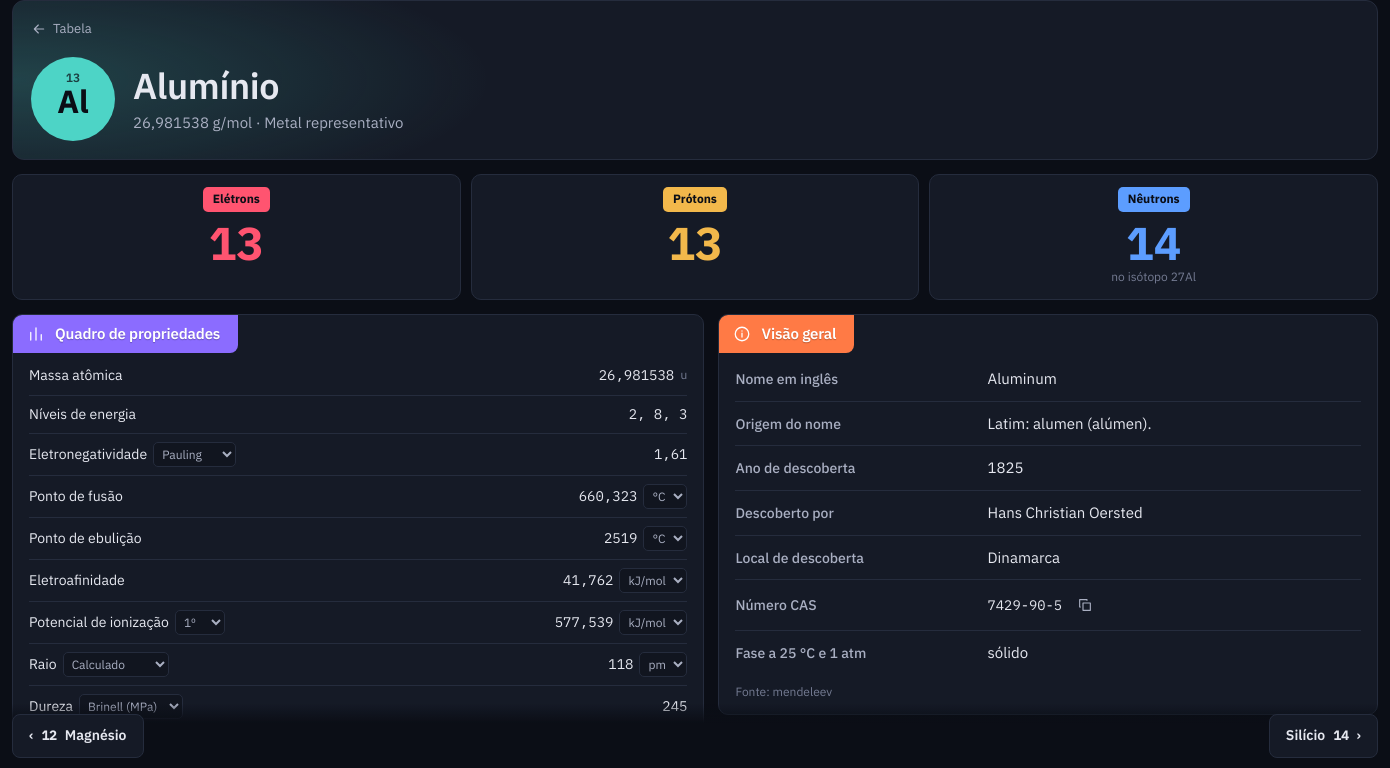
páginas de elementos › seletor de variante troca o valor (raio)
Select "van der Waals" in the dropdown named "Raio: variante" at [116, 665], box [63,652,169,677]
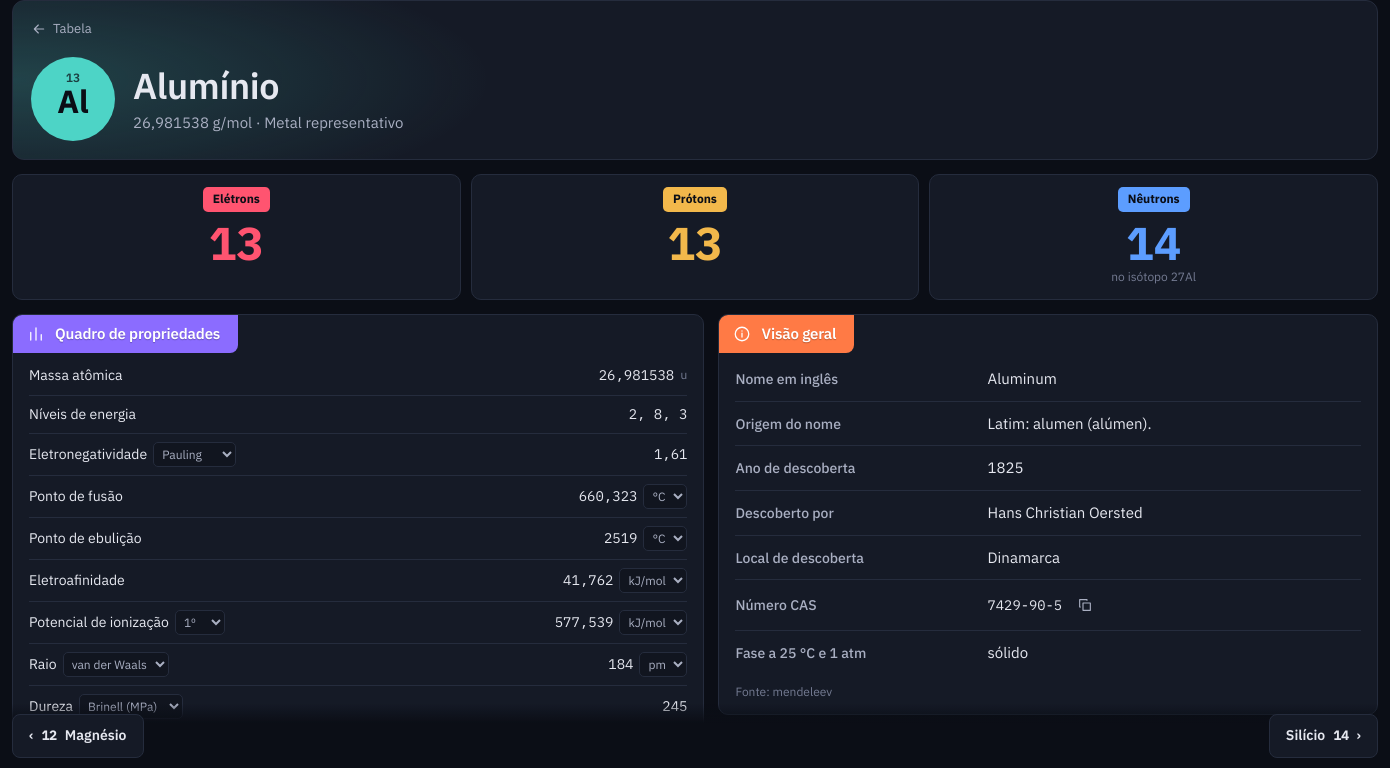
Expected: the text "184" is shown, [608,652,688,677]
